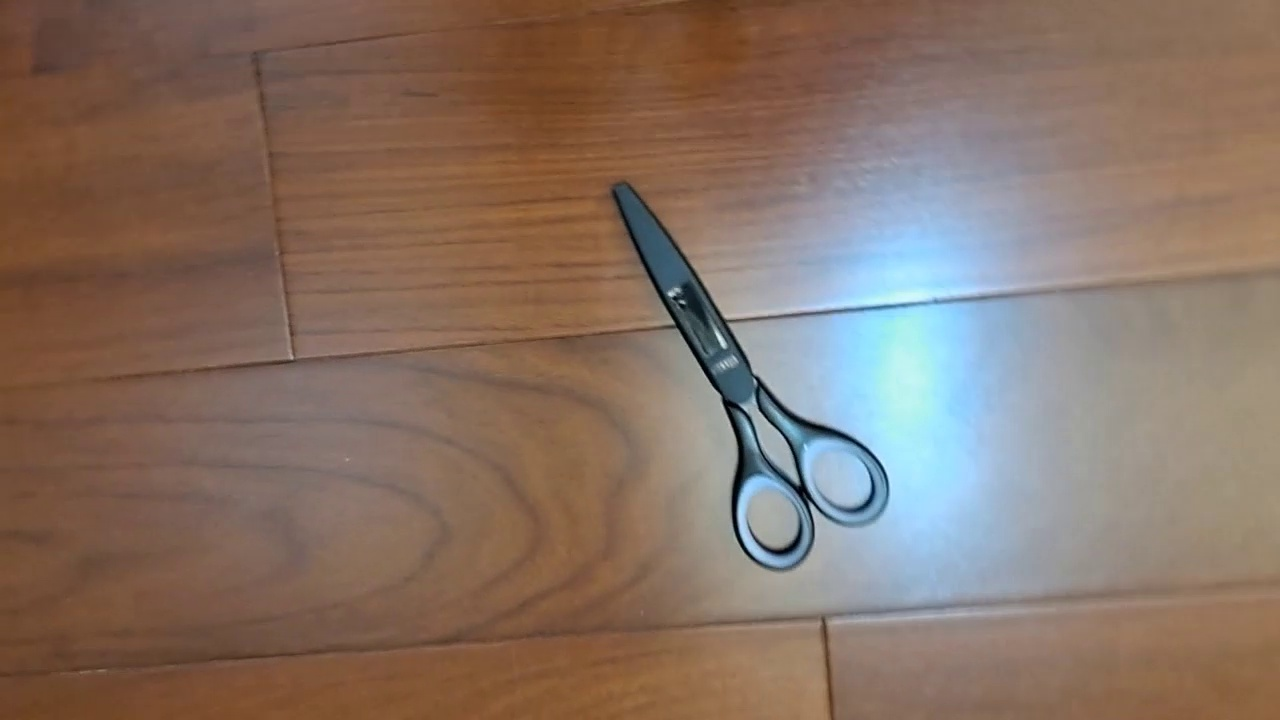scissors: (610, 177, 889, 573)
